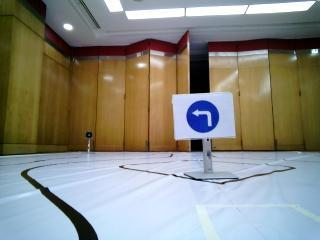left: (175, 95, 235, 136)
